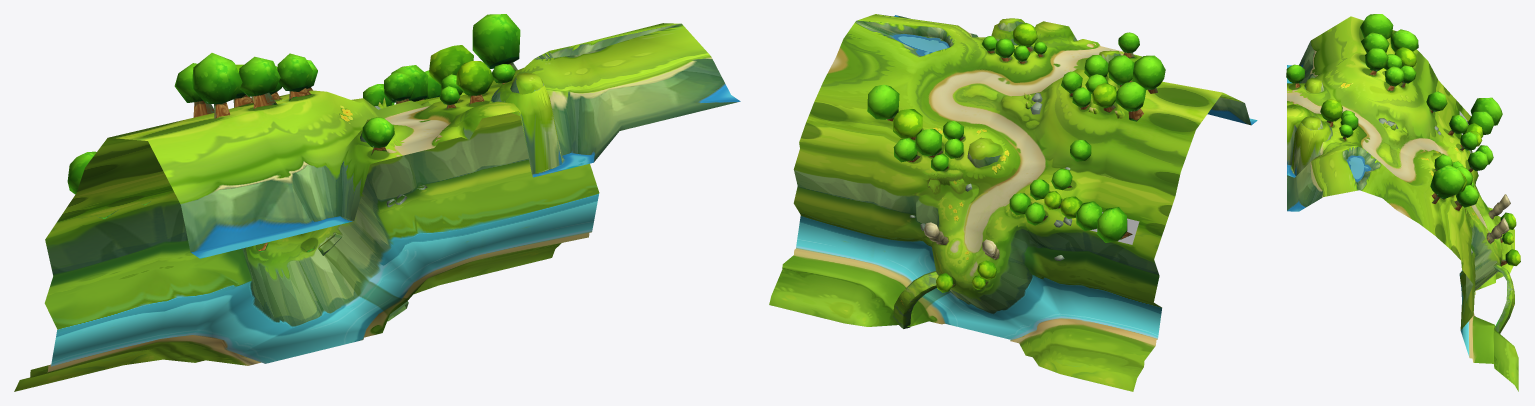
Rendered from Chapter2Model2.FBX.
3 views of the same model, side by side, from view 1: azimuth 30°, elevation 25°; view 2: azimuth 150°, elevation 25°; view 3: azimuth 270°, elevation 25° (orthographic). The views are drawn at different scales.
Parts seen in each view (by area): view 1: Chapter2Model2Model1, Chapter2Model2Model4, Chapter2Model2Model2; view 2: Chapter2Model2Model1, Chapter2Model2Model4, Chapter2Model2Model2; view 3: Chapter2Model2Model1, Chapter2Model2Model4, Chapter2Model2Model2.
Boxes of the visible parts, x1,y1,x2,y2 form: Chapter2Model2Model1: (14, 23, 740, 391); Chapter2Model2Model4: (67, 14, 520, 252); Chapter2Model2Model2: (251, 73, 543, 321); Chapter2Model2Model1: (769, 14, 1257, 391); Chapter2Model2Model4: (867, 23, 1165, 292); Chapter2Model2Model2: (893, 18, 1124, 328); Chapter2Model2Model1: (1287, 16, 1518, 391); Chapter2Model2Model4: (1286, 14, 1520, 266); Chapter2Model2Model2: (1301, 77, 1514, 333).
Bounding box in the file's own units: 970 × 595 × 689.
